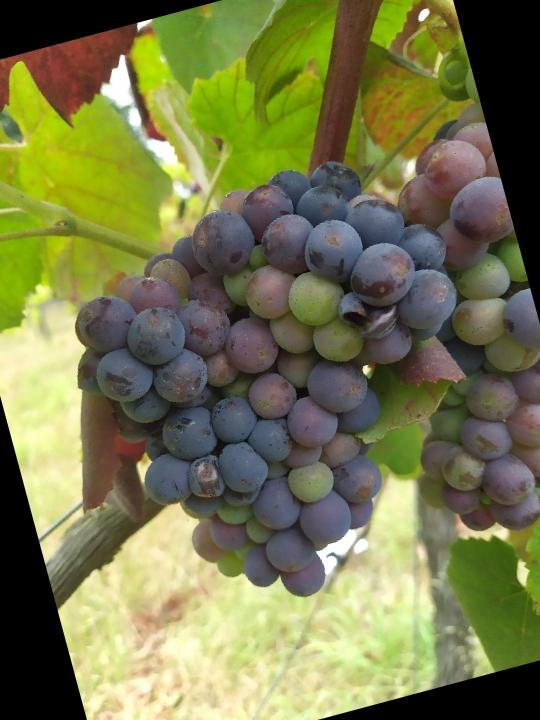grape: (36, 135, 530, 645)
